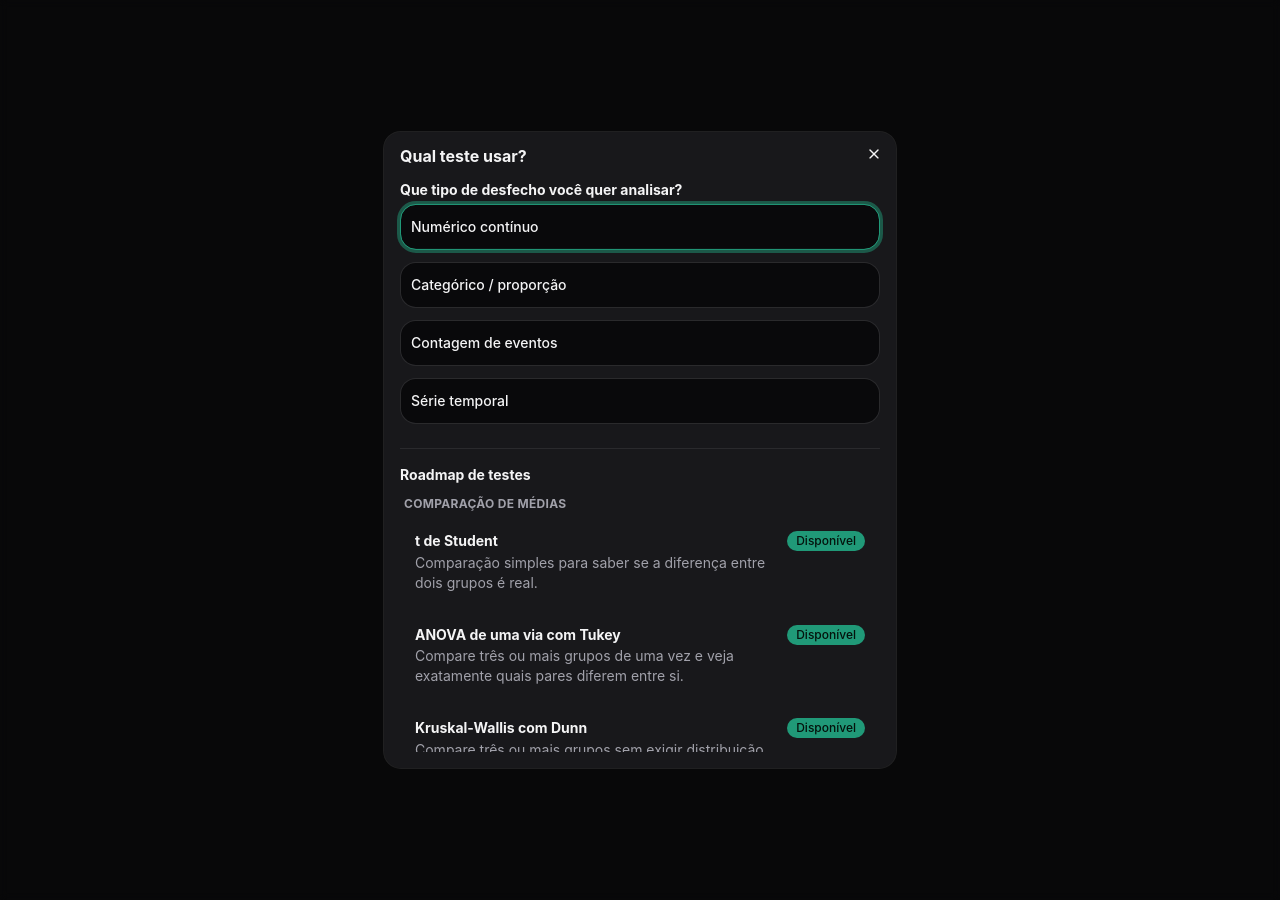
Test case: QualTesteModal › returns to the previous question via Voltar
Click the button "Numérico contínuo" at (475, 226), box top-left (400, 204), bottom-right (880, 250)
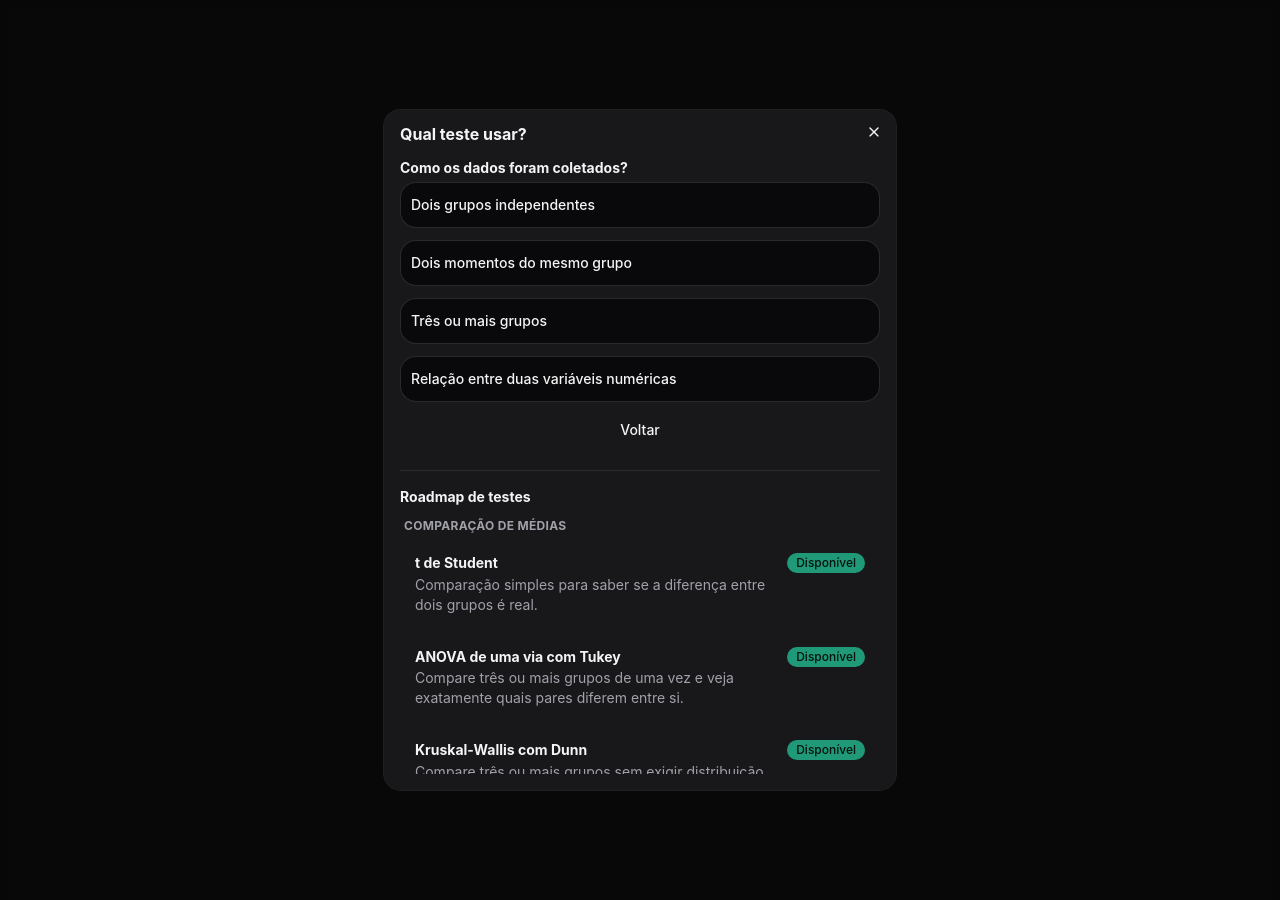
Click the button "Dois grupos independentes" at (503, 204), box top-left (400, 182), bottom-right (880, 228)
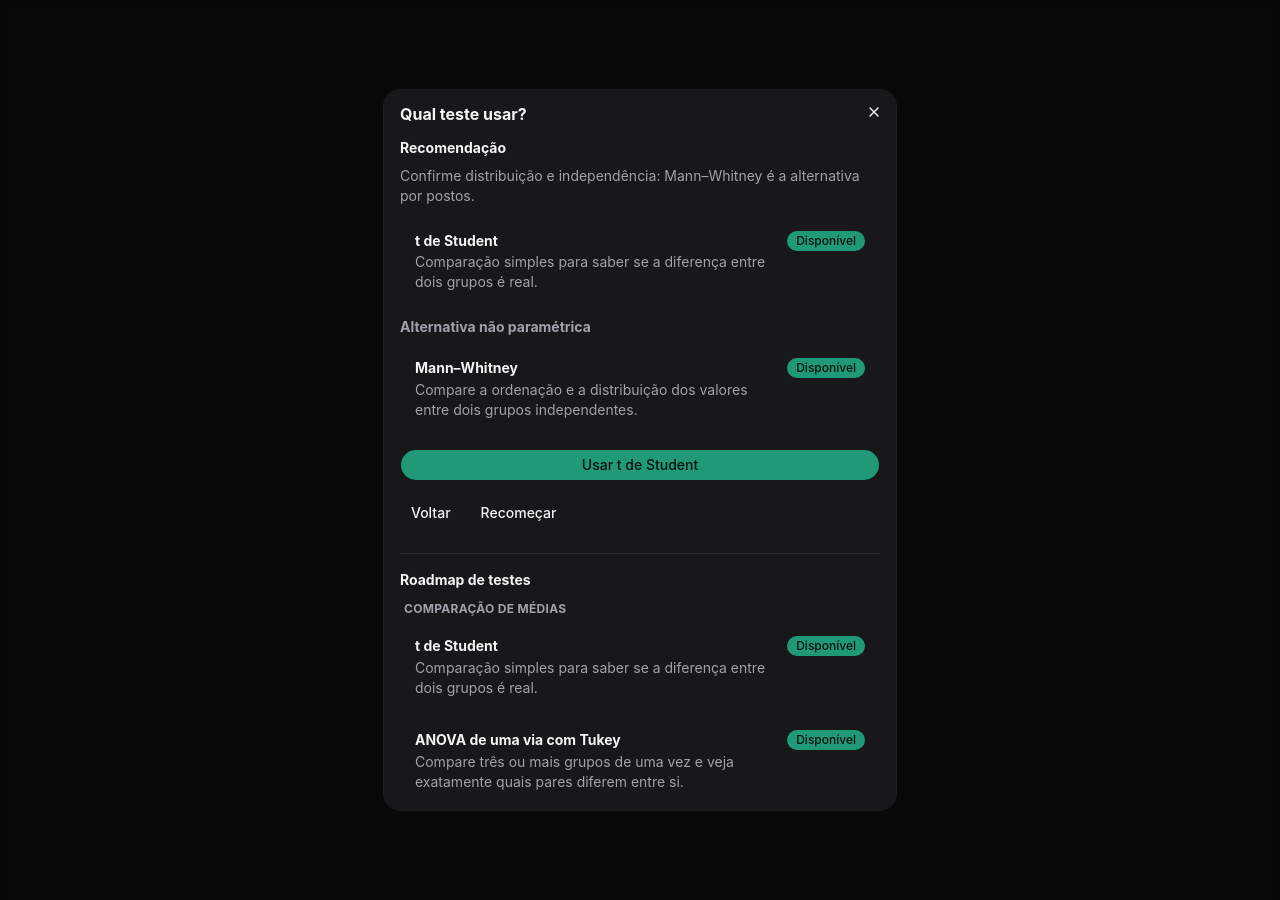
Click the button "Voltar" at (431, 513), box top-left (400, 497), bottom-right (462, 529)
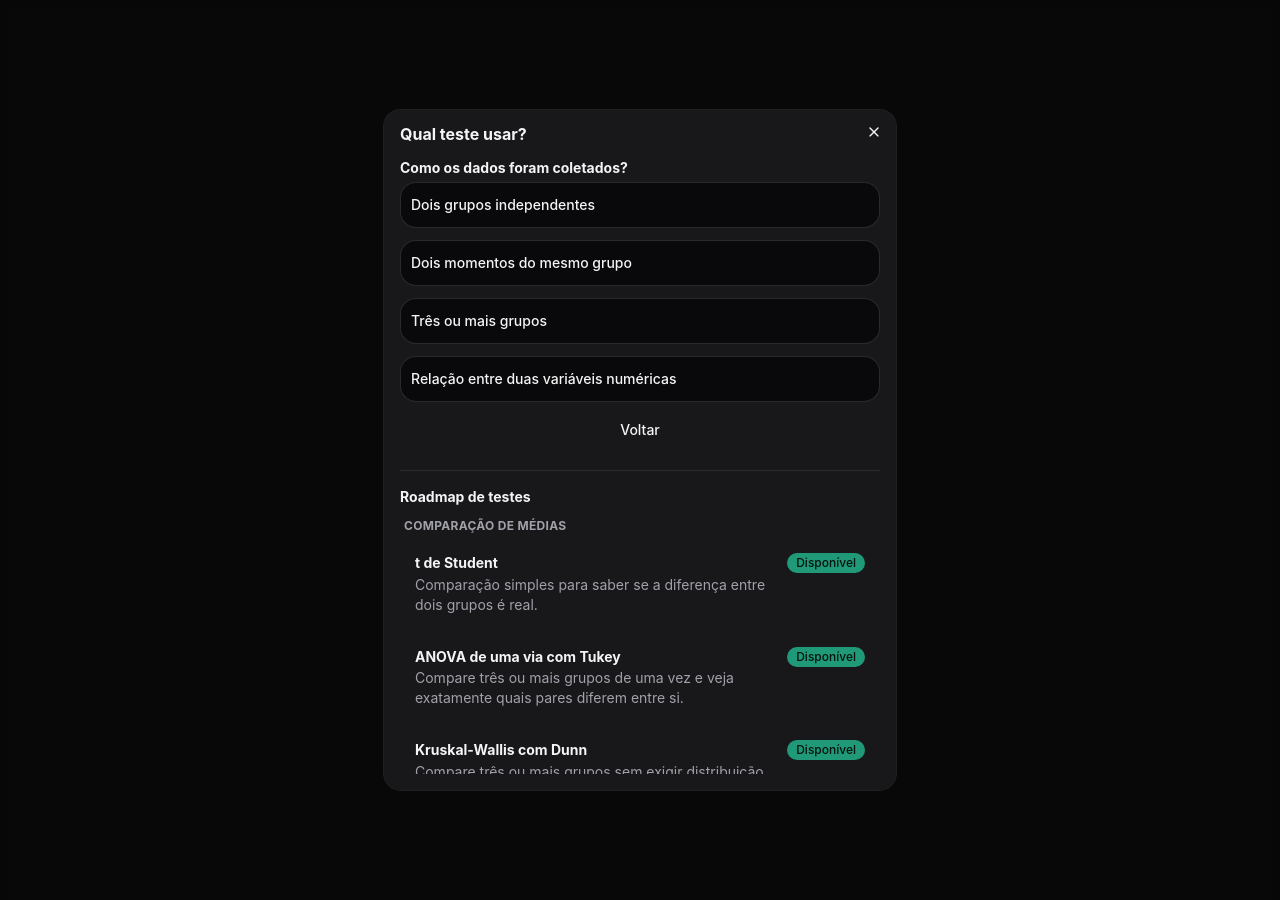
Expected: the text "Como os dados foram coletados?" is shown, top-left (400, 158), bottom-right (628, 178)
Expected: the heading "Recomendação" is gone
